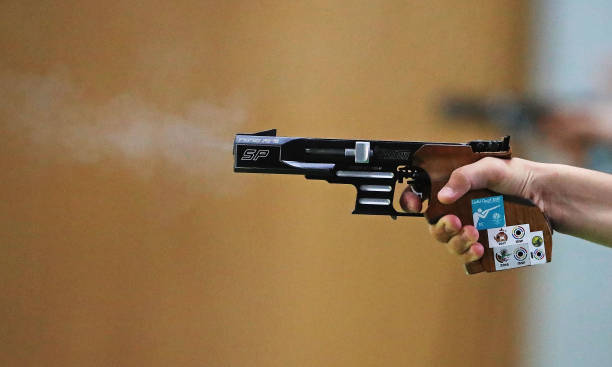pistol: (227, 127, 559, 276)
